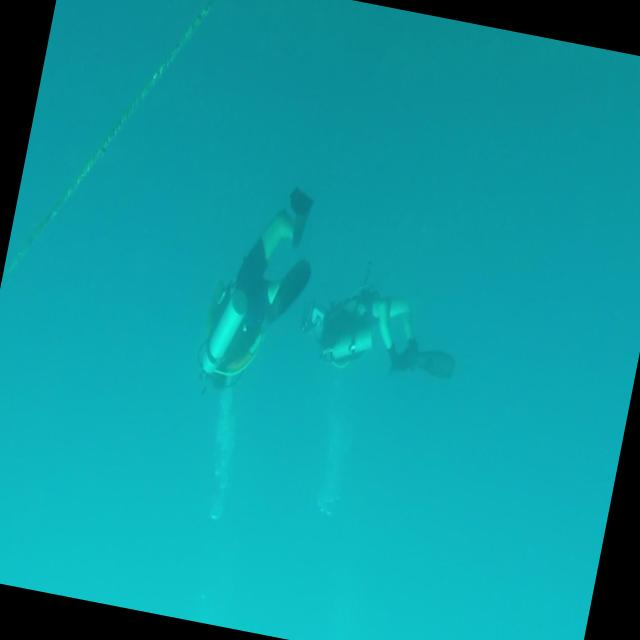human: (190, 174, 328, 409), (293, 274, 467, 392)
